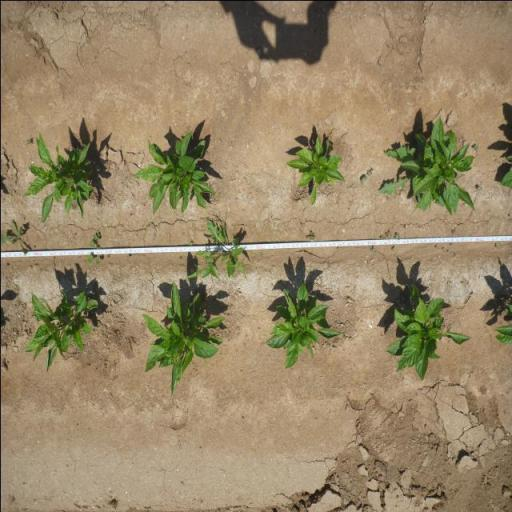plant: (140, 281, 226, 393), (383, 280, 471, 382), (130, 127, 216, 217), (22, 285, 100, 374), (27, 128, 98, 222), (266, 280, 339, 370), (409, 116, 473, 214), (284, 135, 345, 205), (493, 300, 512, 346)
weed: (186, 219, 245, 279), (377, 143, 411, 194), (0, 218, 27, 253), (87, 230, 102, 264), (305, 230, 315, 240), (359, 174, 367, 186), (366, 166, 373, 176), (384, 229, 390, 239), (369, 246, 376, 254), (378, 232, 384, 240), (472, 143, 478, 151), (394, 233, 400, 239), (258, 251, 264, 257), (476, 185, 481, 192), (340, 331, 344, 339), (390, 245, 394, 251)
